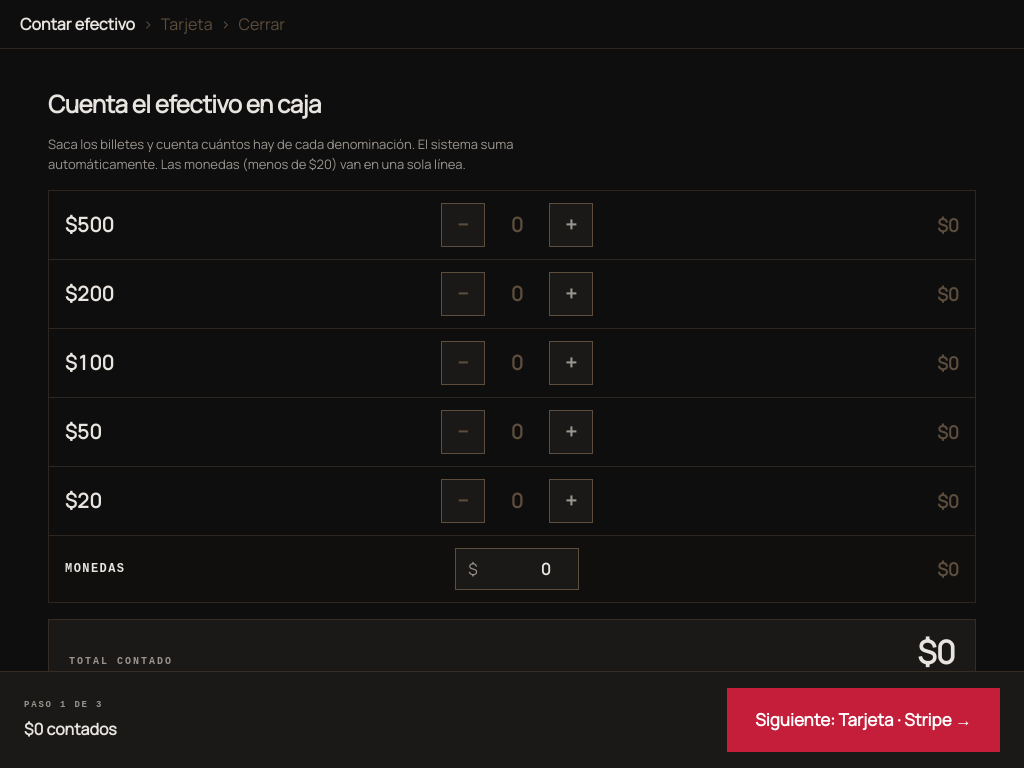
Test case: CloseCajaWizard › back button on step 2 returns to step 1 preserving cash counts
Check: the text "Cuenta el efectivo en caja" is shown, box [48,87,321,120]
Click the button "Siguiente: Tarjeta · Stripe →" at (864, 720), box [727,688,1000,752]
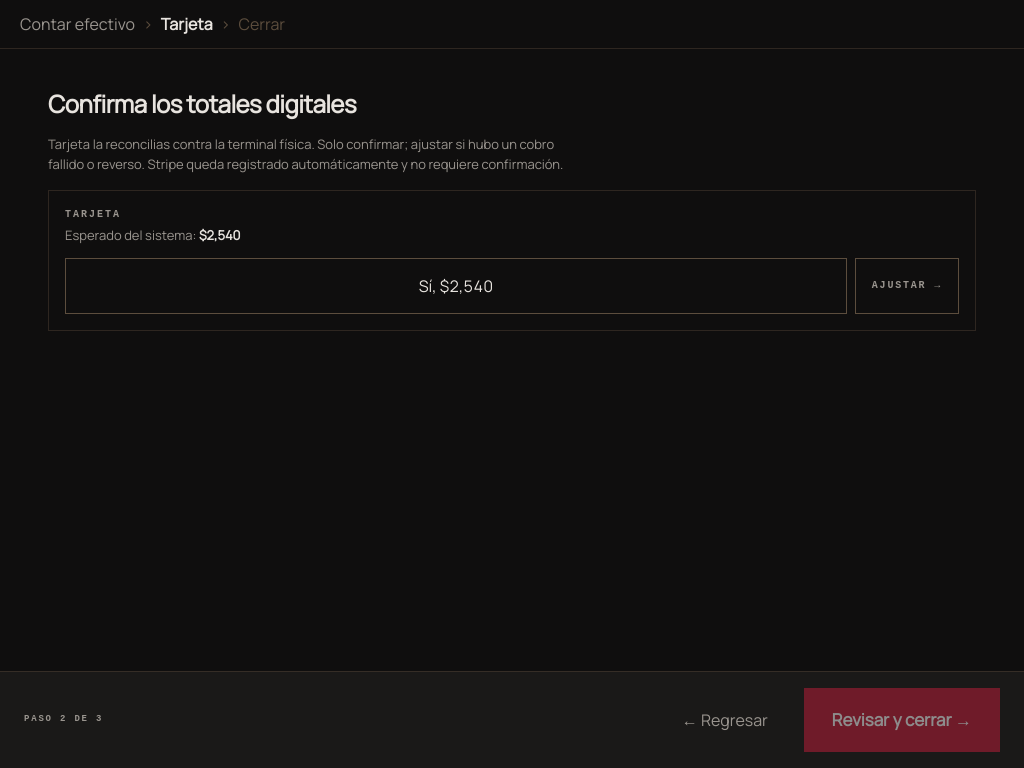
Check: the text "Confirma los totales digitales" is shown, box [48,87,356,120]
Click the button "← Regresar" at (725, 720), box [658,692,792,748]
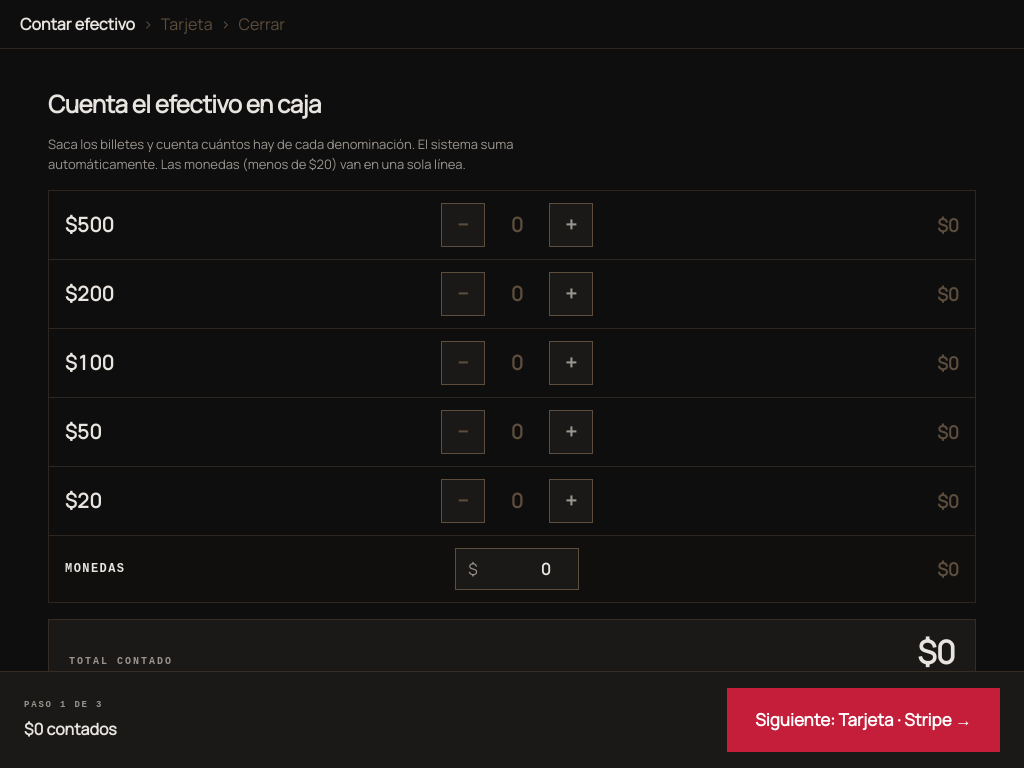
Check: the text "Cuenta el efectivo en caja" is shown, box [48,87,321,120]
